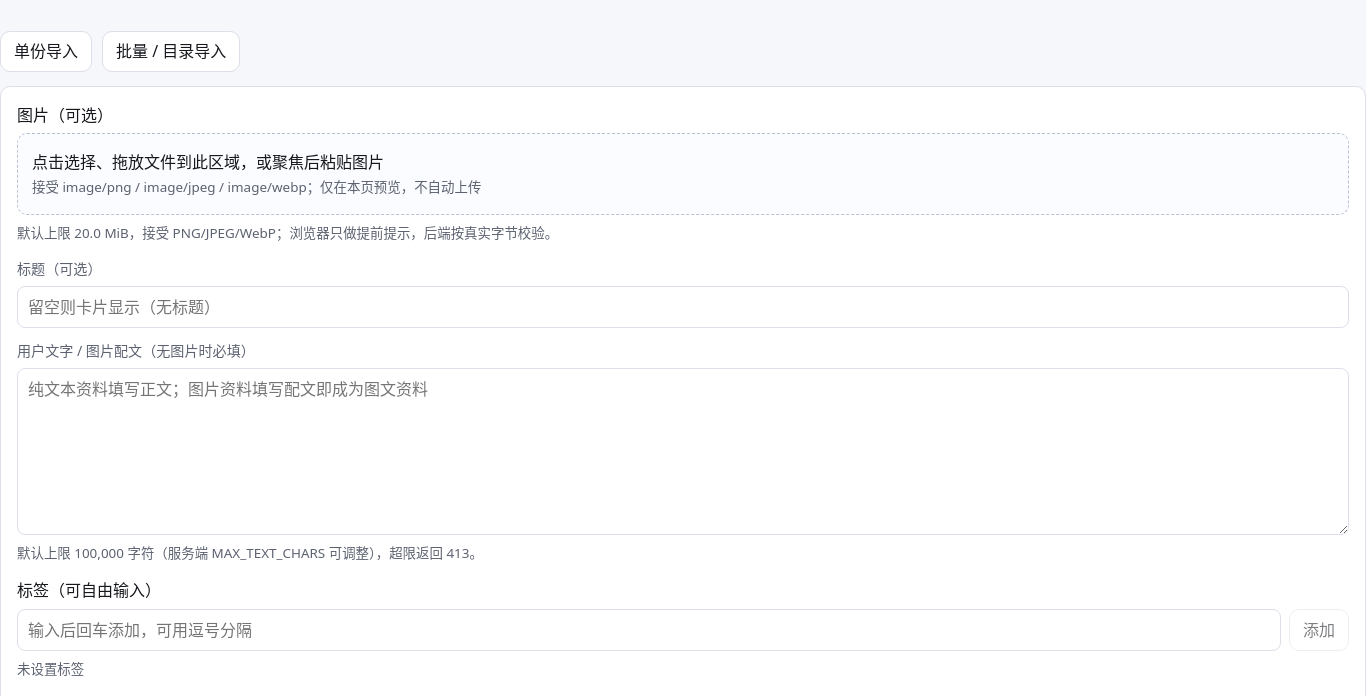
Test: import page › posts plain text with the fixed text route, no workflow field and no manual content type
In the field labelled "标题（可选）": (683,307) 17,286 -> 1349,328, type "读书笔记"
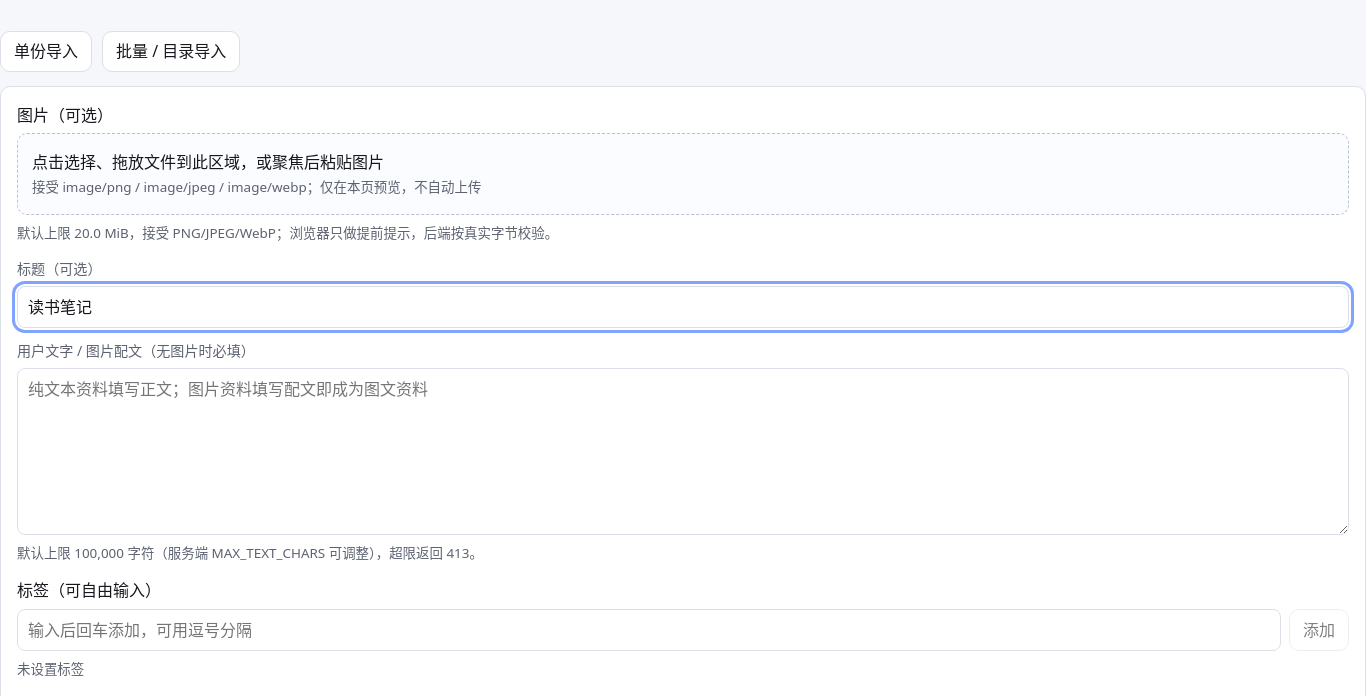
In the text box labelled "用户文字 / 图片配文": (683,452) 17,368 -> 1349,535, type "待保存的文字"
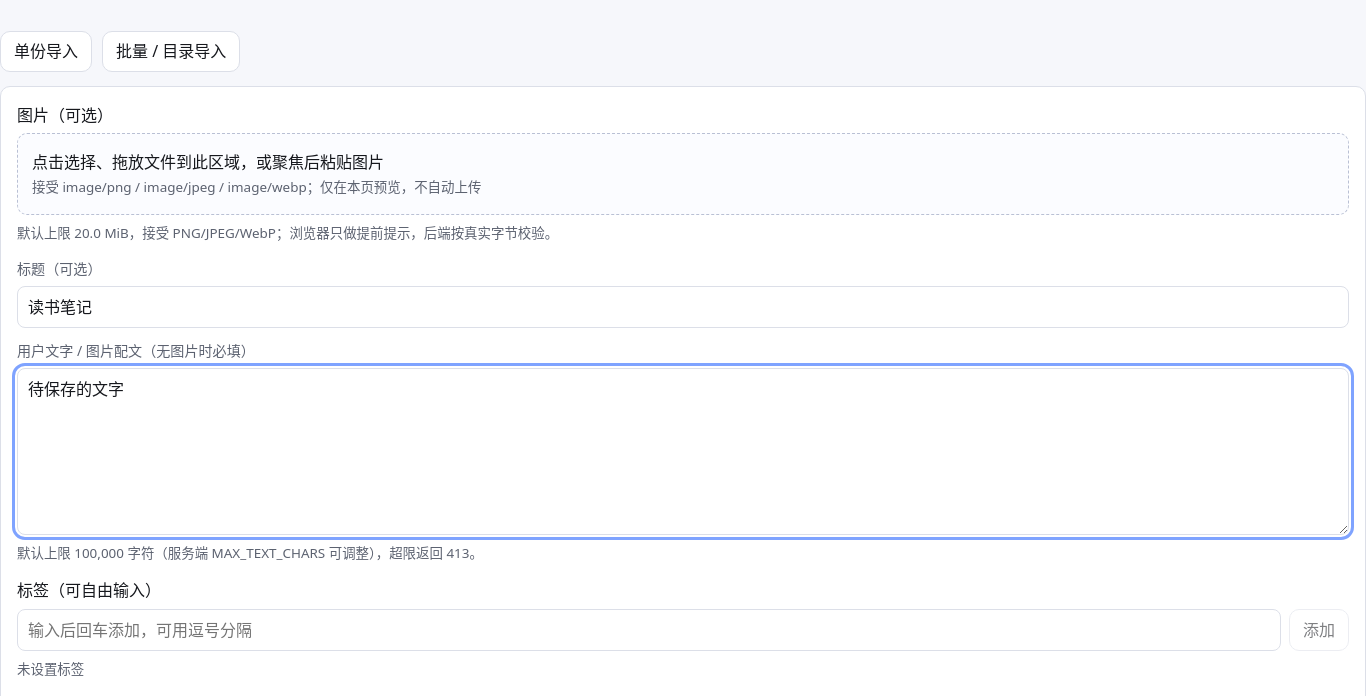
In the field labelled "标签（可自由输入）": (649,630) 17,609 -> 1281,651, type "笔记"
Then press Enter
(page scrolled)
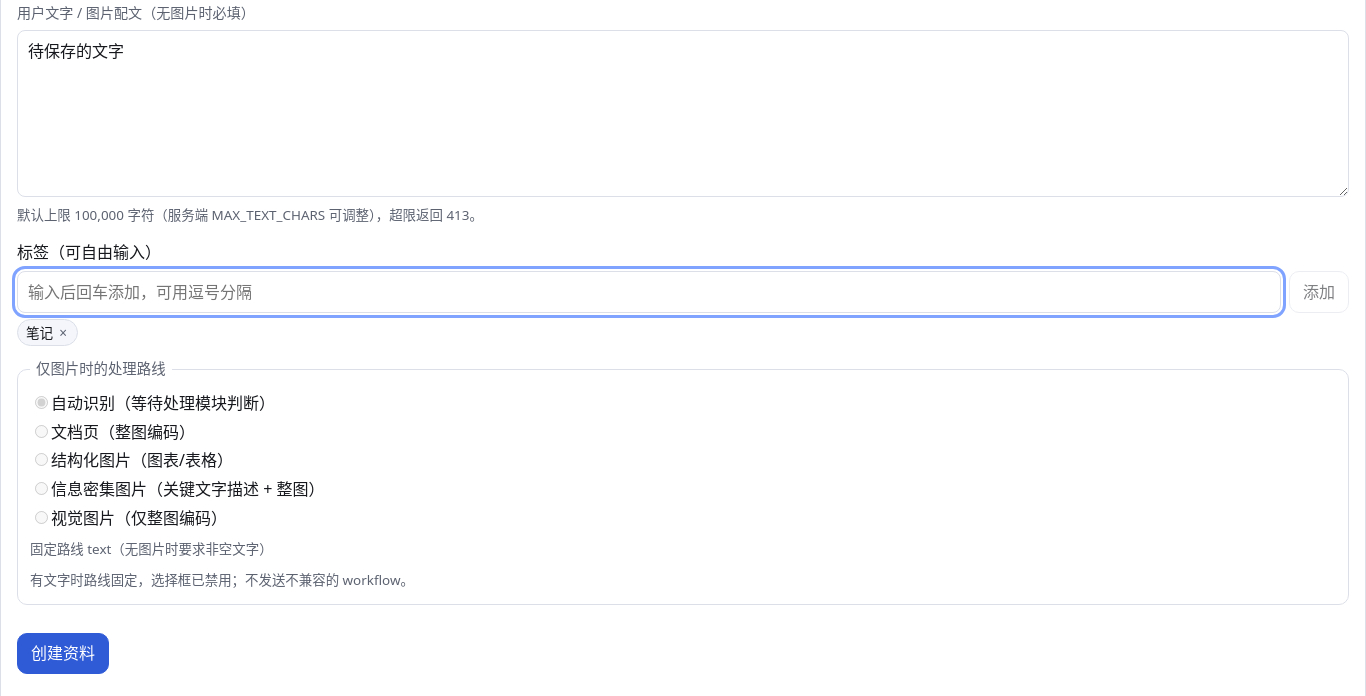
Click the button "创建资料": (63,654) 17,633 -> 109,674
(page scrolled)
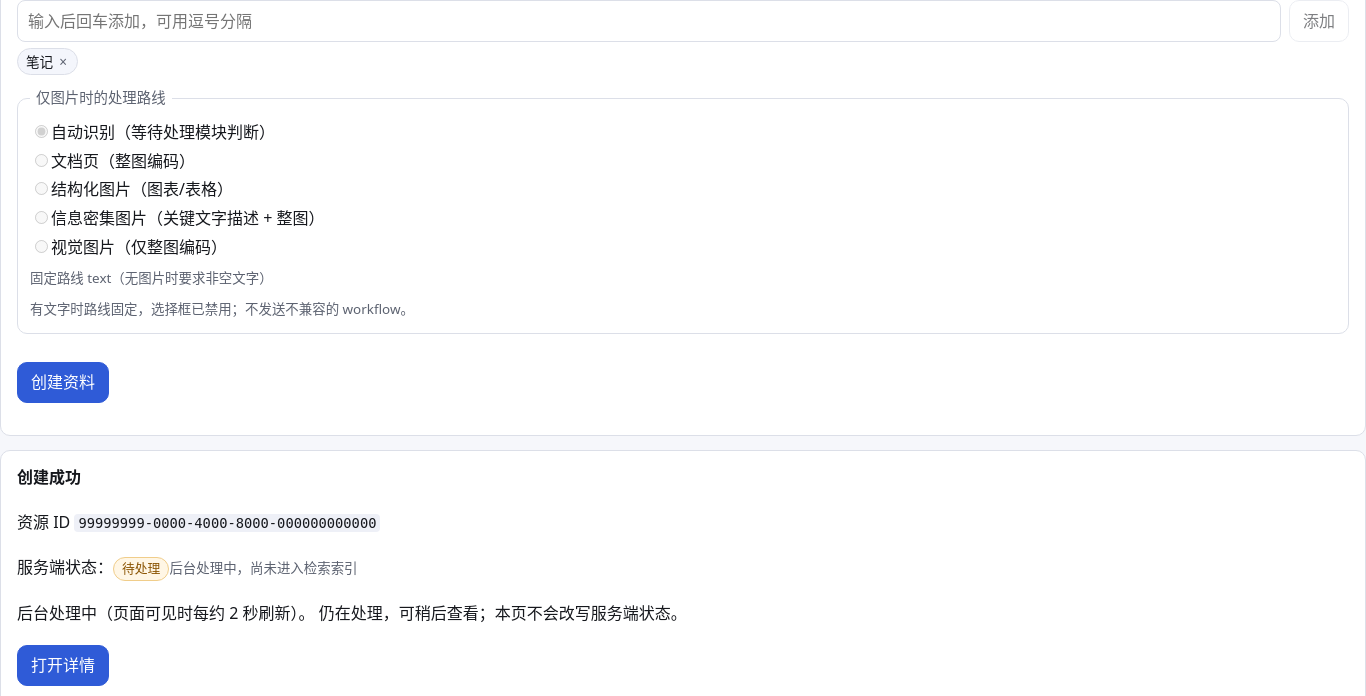
expect the heading "创建成功" is shown: met, box 17,466 -> 81,488
expect the text "99999999-0000-4000-8000-000000000000" is shown: met, box 74,514 -> 380,532
expect the message shows "后台处理中": met, box 17,602 -> 314,624
